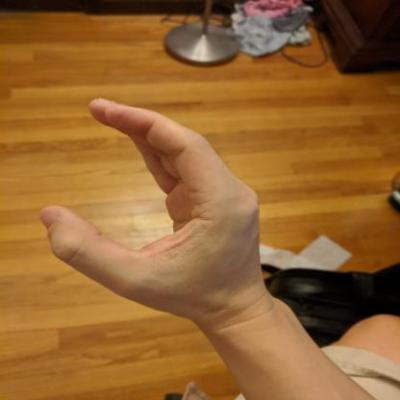hand: (33, 94, 264, 318)
